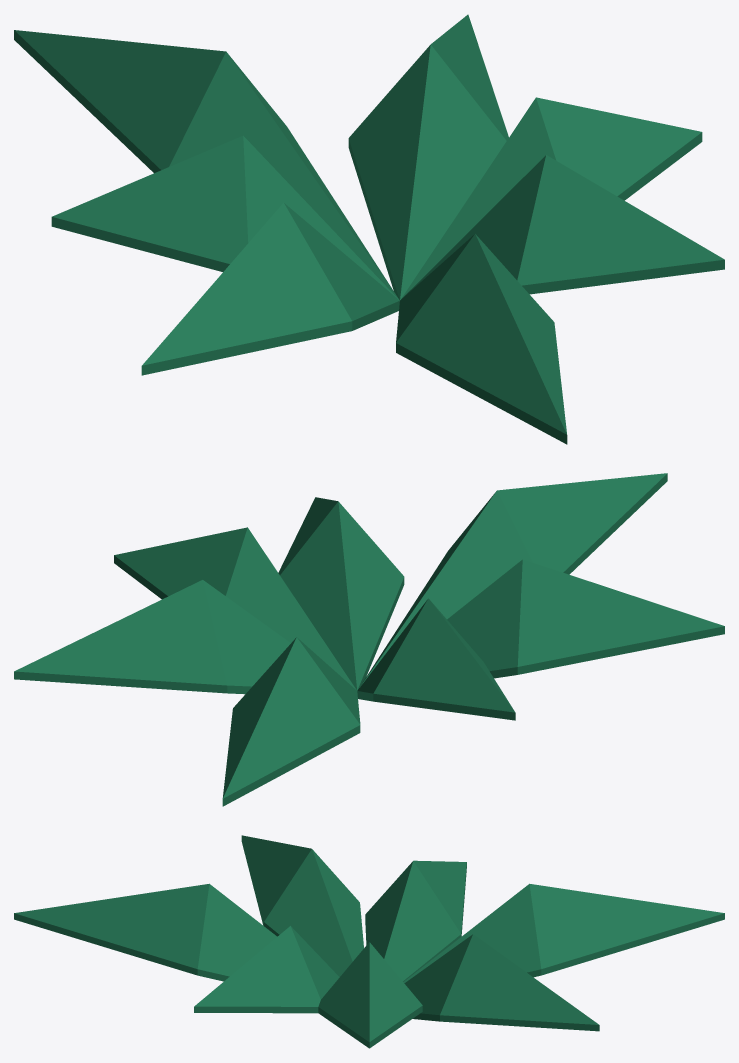
The picture shows the model from 3 angles, top to bottom: view 1: azimuth 30°, elevation 25°; view 2: azimuth 150°, elevation 25°; view 3: azimuth 270°, elevation 25°; orthographic projection. The views are drawn at different scales.
Parts seen in each view (by area): view 1: 水潭_岸边折叶2.001; view 2: 水潭_岸边折叶2.001; view 3: 水潭_岸边折叶2.001.
Part boxes in pixels (x1,y1,x2,y2): 水潭_岸边折叶2.001: [14, 14, 724, 444]; 水潭_岸边折叶2.001: [14, 473, 724, 806]; 水潭_岸边折叶2.001: [14, 835, 724, 1048].
Bounding box in the file's own units: 0.2794 × 0.0728 × 0.4056.
